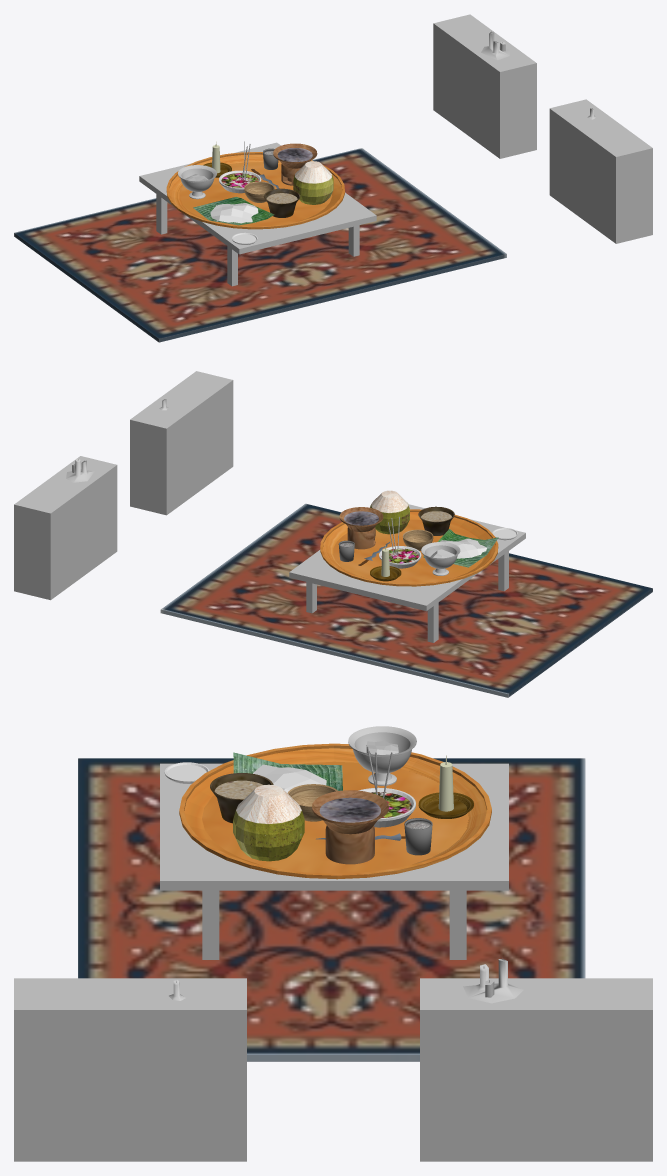
The model's file is Asset Main Building_V2.fbx_Ruang_Ritual.fbx.
The picture shows the model from 3 angles, top to bottom: view 1: azimuth 30°, elevation 25°; view 2: azimuth 150°, elevation 25°; view 3: azimuth 270°, elevation 25°; orthographic projection. The views are drawn at different scales.
Parts seen in each view (by area): view 1: Karpet, Chest_drawers_04.030, Chest_drawers_04.029, Meja ritual, nampan, kelapa, wadah bakar, wadah abu, wadah isi, bunga, daun pisang, wadah bunga; view 2: Karpet, Chest_drawers_04.030, Chest_drawers_04.029, Meja ritual, nampan, wadah bakar, kelapa, wadah abu, wadah isi, wadah bunga, daun pisang, bunga (+1 smaller); view 3: Karpet, Chest_drawers_04.030, Chest_drawers_04.029, Meja ritual, nampan, kelapa, wadah bakar, wadah abu, wadah isi, Candle_03.001, daun pisang, wadah bunga (+6 smaller).
Boxes of the visible parts, box(x1,y1,x2,y2) form: Karpet: box(14, 148, 506, 342); Chest_drawers_04.030: box(549, 99, 652, 243); Chest_drawers_04.029: box(433, 14, 536, 158); Meja ritual: box(139, 142, 376, 286); nampan: box(166, 152, 344, 229); kelapa: box(293, 161, 333, 204); wadah bakar: box(273, 143, 317, 185); wadah abu: box(178, 165, 216, 199); wadah isi: box(263, 188, 300, 217); bunga: box(210, 203, 258, 223); daun pisang: box(193, 197, 274, 225); wadah bunga: box(219, 170, 261, 193); Karpet: box(160, 503, 652, 697); Chest_drawers_04.030: box(130, 371, 233, 515); Chest_drawers_04.029: box(14, 456, 117, 600); Meja ritual: box(289, 504, 525, 642); nampan: box(320, 509, 498, 586); wadah bakar: box(339, 507, 383, 549); kelapa: box(370, 490, 409, 534); wadah abu: box(421, 542, 460, 575); wadah isi: box(418, 506, 454, 535); wadah bunga: box(379, 546, 421, 568); daun pisang: box(423, 529, 498, 567); bunga: box(440, 538, 486, 558); Karpet: box(78, 758, 585, 1061); Chest_drawers_04.030: box(14, 978, 246, 1161); Chest_drawers_04.029: box(420, 978, 652, 1161); Meja ritual: box(160, 763, 508, 959); nampan: box(179, 743, 491, 879); kelapa: box(233, 784, 304, 861); wadah bakar: box(312, 790, 388, 864); wadah abu: box(348, 726, 416, 785); wadah isi: box(210, 773, 273, 823); Candle_03.001: box(463, 958, 523, 1003); daun pisang: box(233, 752, 342, 790); wadah bunga: box(358, 787, 415, 827).
Bounding box in the file's own units: 4474 × 1005 × 2978.
